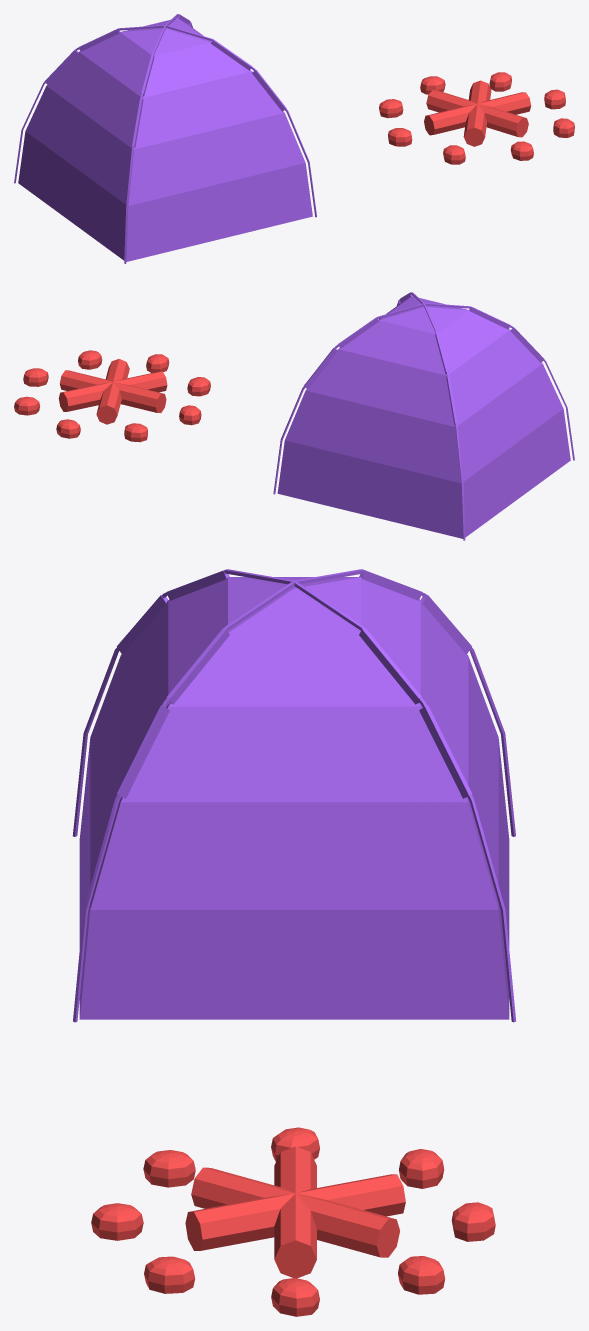
Rendered from Campamento CR.obj.
3 renders of one model, top to bottom at view 1: azimuth 30°, elevation 25°; view 2: azimuth 150°, elevation 25°; view 3: azimuth 270°, elevation 25°, orthographic. The views are drawn at different scales.
Parts seen in each view (by area): view 1: Carpa Base, tronco Fogata1, Fogata1 tronco1, Fogata1 tronco2, Carpa Soporte, Carpa Soporte1, Fogata1 piedra6, Fogata1 piedra5, Fogata1 piedra, Fogata1 piedra3, Fogata1 piedra7, Fogata1 piedra1 (+2 smaller); view 2: Carpa Base, tronco Fogata1, Fogata1 tronco2, Fogata1 tronco1, Carpa Soporte1, Carpa Soporte, Fogata1 piedra3, Fogata1 piedra2, Fogata1 piedra1, Fogata1 piedra4, Fogata1 piedra5, Fogata1 piedra7 (+2 smaller); view 3: Carpa Base, Fogata1 tronco1, Fogata1 tronco2, tronco Fogata1, Carpa Soporte1, Carpa Soporte, Fogata1 piedra, Fogata1 piedra7, Fogata1 piedra1, Fogata1 piedra2, Fogata1 piedra3, Fogata1 piedra5 (+6 smaller).
Boxes of the visible parts, x1,y1,x2,y2 form: Carpa Base: (18, 18, 312, 261); tronco Fogata1: (424, 92, 531, 135); Fogata1 tronco1: (426, 90, 528, 137); Fogata1 tronco2: (463, 80, 491, 146); Carpa Soporte: (14, 25, 316, 217); Carpa Soporte1: (124, 14, 190, 263); Fogata1 piedra6: (388, 128, 412, 146); Fogata1 piedra5: (379, 99, 403, 118); Fogata1 piedra: (510, 141, 533, 160); Fogata1 piedra3: (489, 72, 511, 91); Fogata1 piedra7: (443, 145, 465, 164); Fogata1 piedra1: (553, 118, 574, 137); Carpa Base: (277, 296, 570, 538); tronco Fogata1: (59, 370, 166, 412); Fogata1 tronco2: (58, 371, 167, 411); Fogata1 tronco1: (96, 359, 129, 424); Carpa Soporte1: (273, 303, 574, 494); Carpa Soporte: (399, 292, 465, 540); Fogata1 piedra3: (14, 396, 40, 415); Fogata1 piedra2: (23, 368, 48, 386); Fogata1 piedra1: (78, 350, 102, 369); Fogata1 piedra4: (56, 419, 80, 438); Fogata1 piedra5: (124, 423, 147, 442); Fogata1 piedra7: (187, 377, 210, 396); Carpa Base: (79, 577, 509, 1019); Fogata1 tronco1: (185, 1174, 405, 1250); Fogata1 tronco2: (191, 1167, 399, 1257); tronco Fogata1: (274, 1146, 316, 1278); Carpa Soporte1: (72, 569, 516, 1022); Carpa Soporte: (73, 569, 515, 1022); Fogata1 piedra: (91, 1203, 143, 1240); Fogata1 piedra7: (143, 1150, 195, 1187); Fogata1 piedra1: (144, 1256, 195, 1293); Fogata1 piedra2: (271, 1278, 319, 1316); Fogata1 piedra3: (398, 1256, 445, 1294); Fogata1 piedra5: (399, 1149, 444, 1188).
Size of the model in its own units: 399 by 134 by 155.
